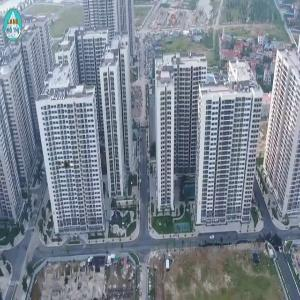drone: (31, 131, 100, 200)
